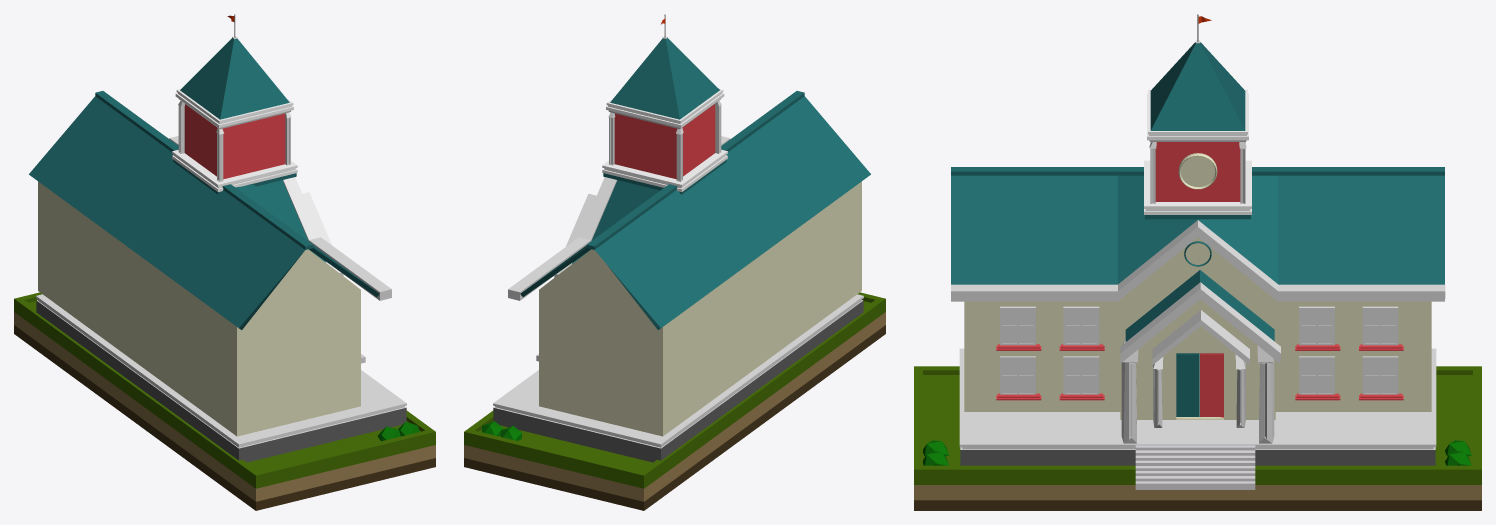
Rendered from School.fbx.
3 views of the same model, side by side, from view 1: azimuth 30°, elevation 25°; view 2: azimuth 150°, elevation 25°; view 3: azimuth 270°, elevation 25° (orthographic). The views are drawn at different scales.
Parts seen in each view (by area): view 1: Cube.096, Cube.097, factory ground.002, Cube.107, Cube.112, Cube.098, Cube.108; view 2: Cube.096, Cube.097, factory ground.002, Cube.107, Cube.112, Cube.098, Cube.108, Cube.109; view 3: Cube.097, Cube.096, factory ground.002, Cube.112, Cube.107, Cube.098, Plane.049, Cube.109, Cube.111, Cube.110, Cube.265, Cube.268 (+12 smaller).
Boxes of the visible parts, x1,y1,x2,y2 form: Cube.096: (38,181,360,436); Cube.097: (29,91,379,329); factory ground.002: (14,292,435,510); Cube.107: (172,36,297,194); Cube.112: (36,294,406,462); Cube.098: (169,136,391,300); Cube.108: (178,101,291,181); Cube.096: (539,181,861,436); Cube.097: (520,91,870,329); factory ground.002: (464,292,885,510); Cube.107: (602,36,727,194); Cube.112: (493,294,863,462); Cube.098: (508,136,730,300); Cube.108: (608,101,721,181); Cube.109: (554,193,596,277); Cube.097: (951,167,1444,284); Cube.096: (964,237,1431,419); factory ground.002: (914,366,1481,510); Cube.112: (959,348,1436,465); Cube.107: (1144,40,1251,219); Cube.098: (951,220,1445,301); Plane.049: (1135,445,1255,489); Cube.109: (1120,282,1280,363); Cube.111: (1121,346,1274,443); Cube.110: (1125,270,1274,341); Cube.265: (1152,310,1249,365); Cube.268: (1200,353,1223,417).
Bounding box in the file's own units: 164 × 293 × 334.
